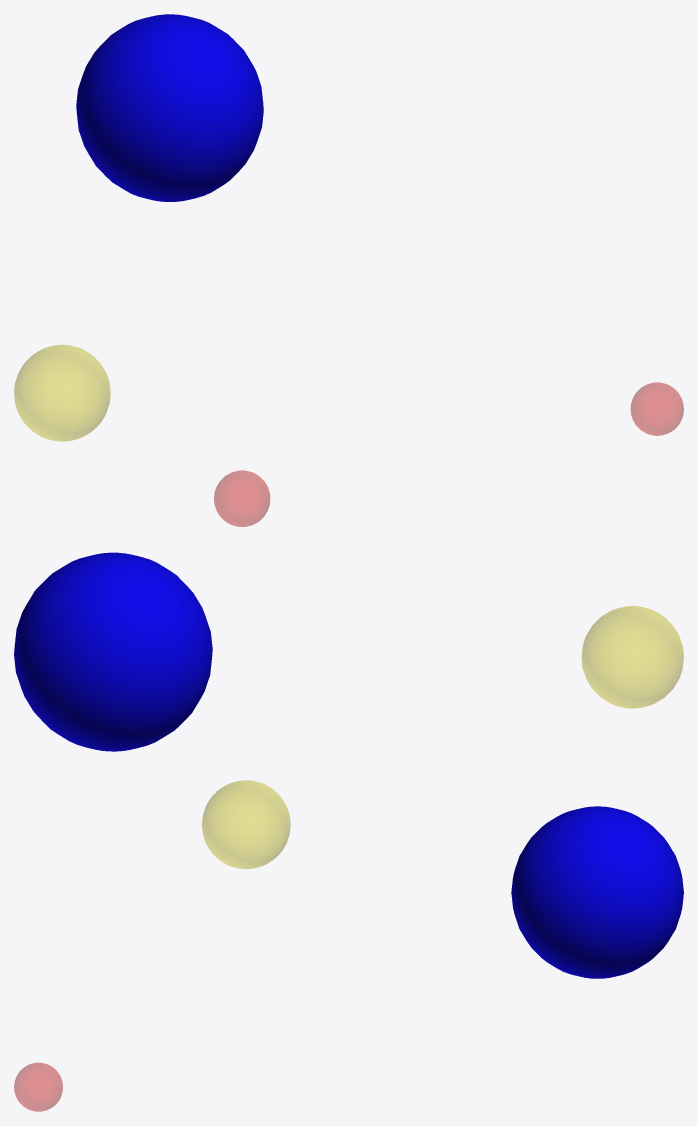
Rendered from asset.glb.
The picture shows the model from 3 angles, top to bottom: view 1: azimuth 30°, elevation 25°; view 2: azimuth 150°, elevation 25°; view 3: azimuth 270°, elevation 25°; orthographic projection. The views are drawn at different scales.
Visible parts, largest first — view 1: Sphere.001, Sphere, Sphere.002; view 2: Sphere.001, Sphere, Sphere.002; view 3: Sphere.001, Sphere, Sphere.002.
Boxes of the visible parts, bbox=[...] form: Sphere.001: bbox=[76, 14, 263, 201]; Sphere: bbox=[14, 345, 110, 441]; Sphere.002: bbox=[631, 382, 683, 435]; Sphere.001: bbox=[14, 552, 212, 751]; Sphere: bbox=[581, 606, 683, 708]; Sphere.002: bbox=[214, 470, 269, 526]; Sphere.001: bbox=[511, 806, 683, 978]; Sphere: bbox=[202, 780, 290, 868]; Sphere.002: bbox=[14, 1063, 62, 1111].
Bounding box in the file's own units: 13.02 × 5.28 × 15.05.
